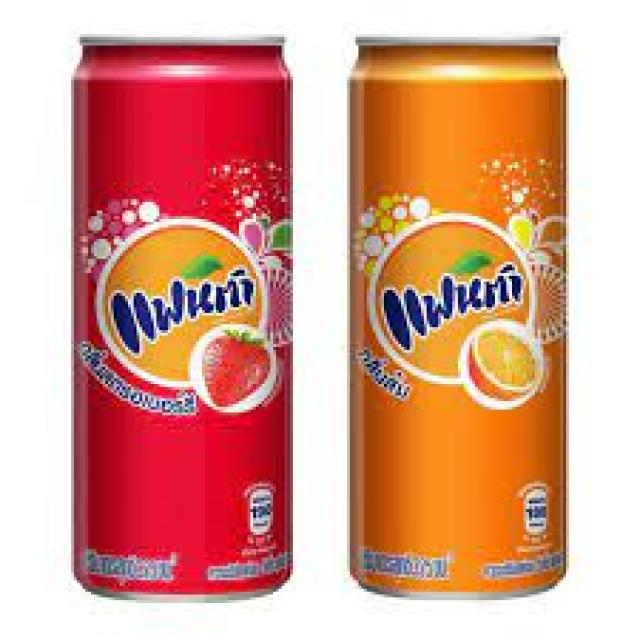can: (66, 32, 296, 602), (344, 32, 569, 600)
